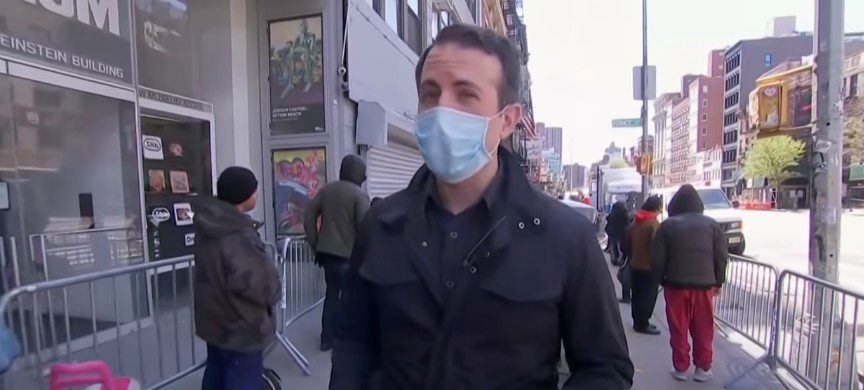face_with_mask: (409, 27, 524, 190)
